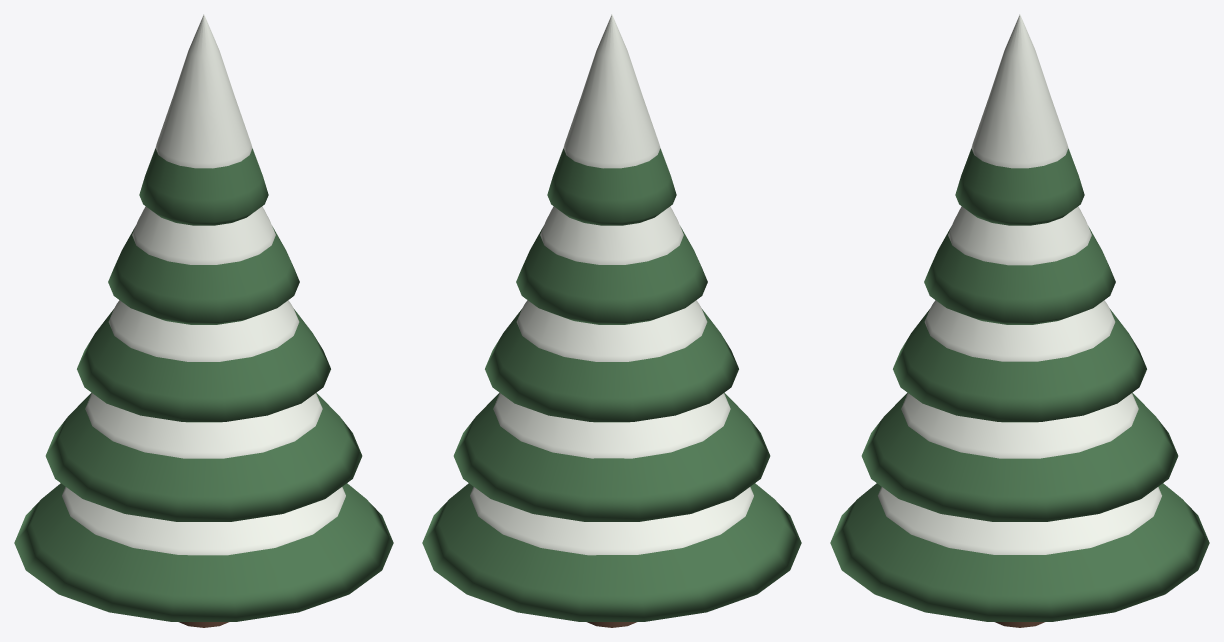
Rendered from almanac-gardens-snow-laden-fir-60b0f546__22062.glb.
The picture shows the model from 3 angles, left to right: view 1: azimuth 30°, elevation 25°; view 2: azimuth 150°, elevation 25°; view 3: azimuth 270°, elevation 25°; orthographic projection.
Parts seen in each view (by area): view 1: snow-laden-fir-leaf, snow-laden-fir-snow; view 2: snow-laden-fir-leaf, snow-laden-fir-snow; view 3: snow-laden-fir-leaf, snow-laden-fir-snow.
Part boxes in pixels (x1,y1,x2,y2): snow-laden-fir-leaf: (14, 148, 393, 621); snow-laden-fir-snow: (62, 14, 345, 555); snow-laden-fir-leaf: (422, 148, 801, 621); snow-laden-fir-snow: (470, 14, 753, 555); snow-laden-fir-leaf: (830, 148, 1209, 621); snow-laden-fir-snow: (878, 14, 1161, 554).
Bounding box in the file's own units: 1.67 × 2.97 × 1.7.
